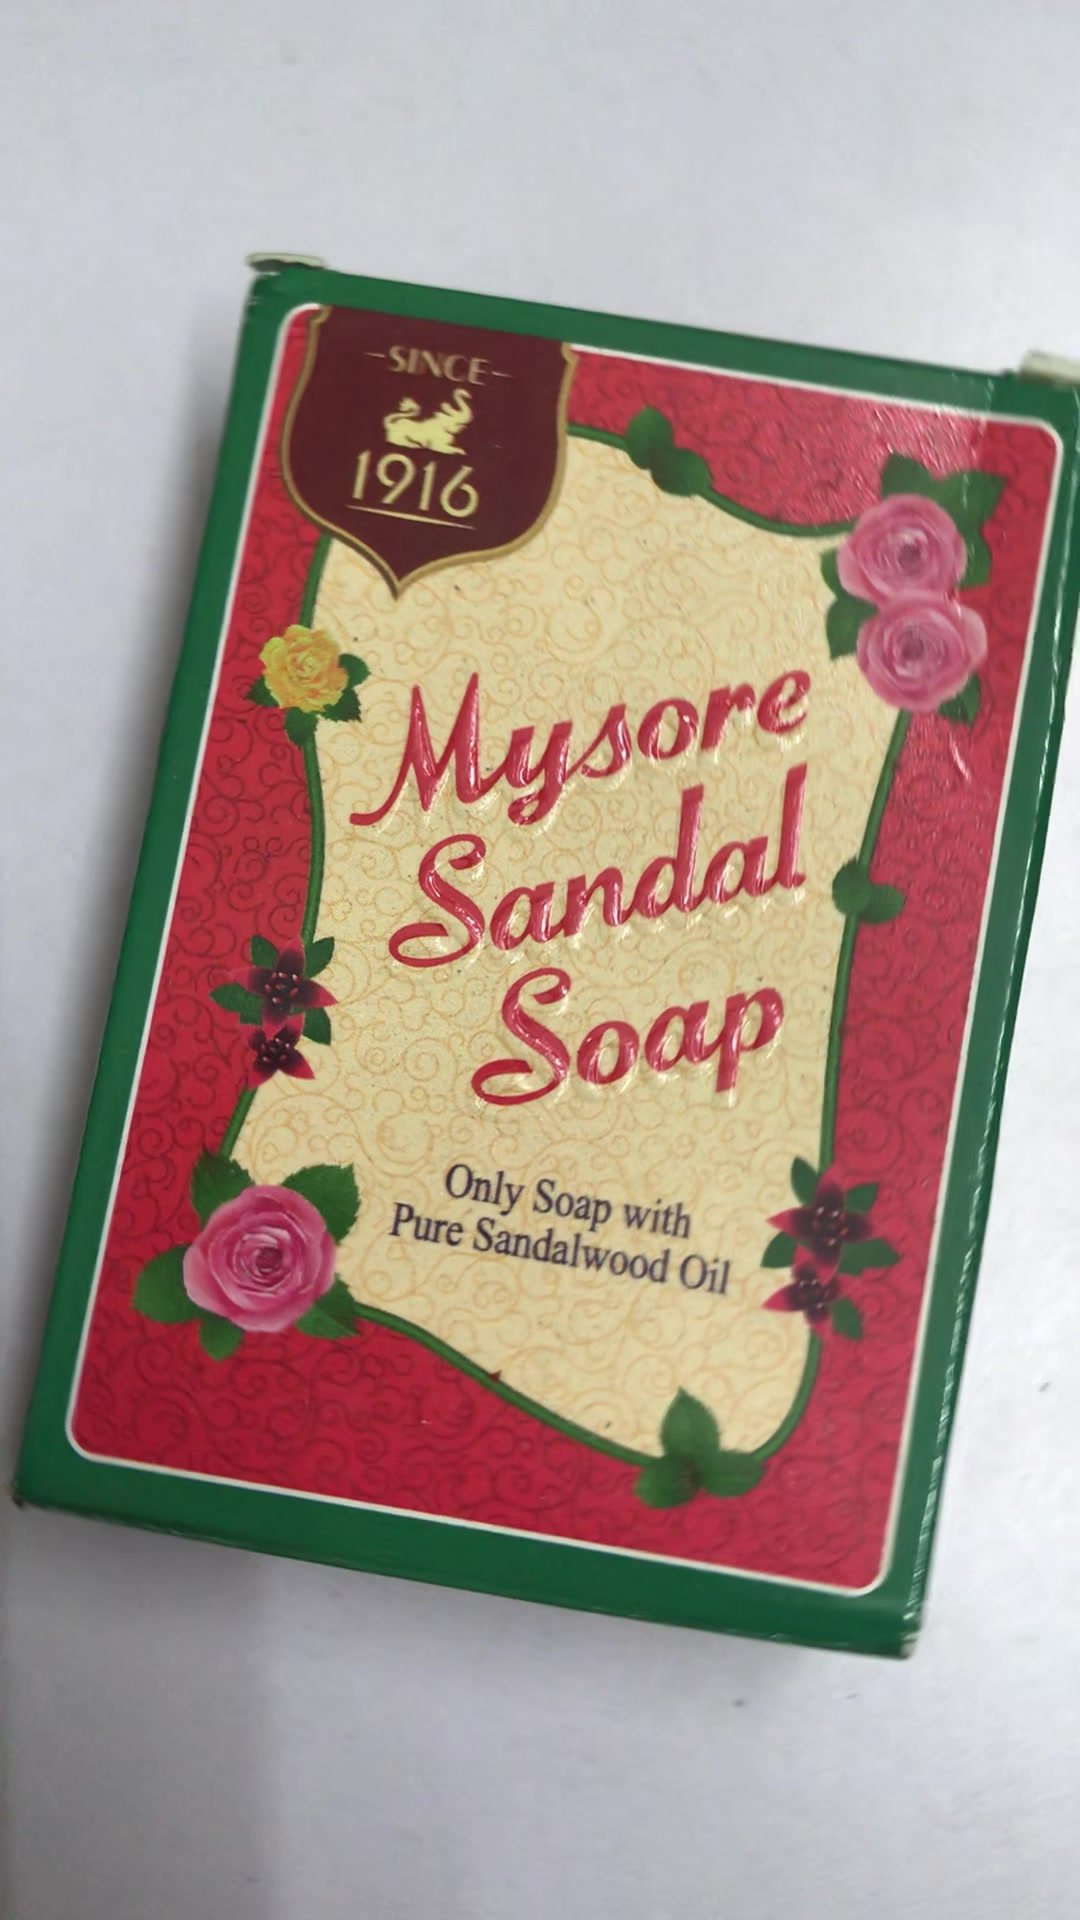mysore sandal soap: (9, 262, 1062, 1658)
